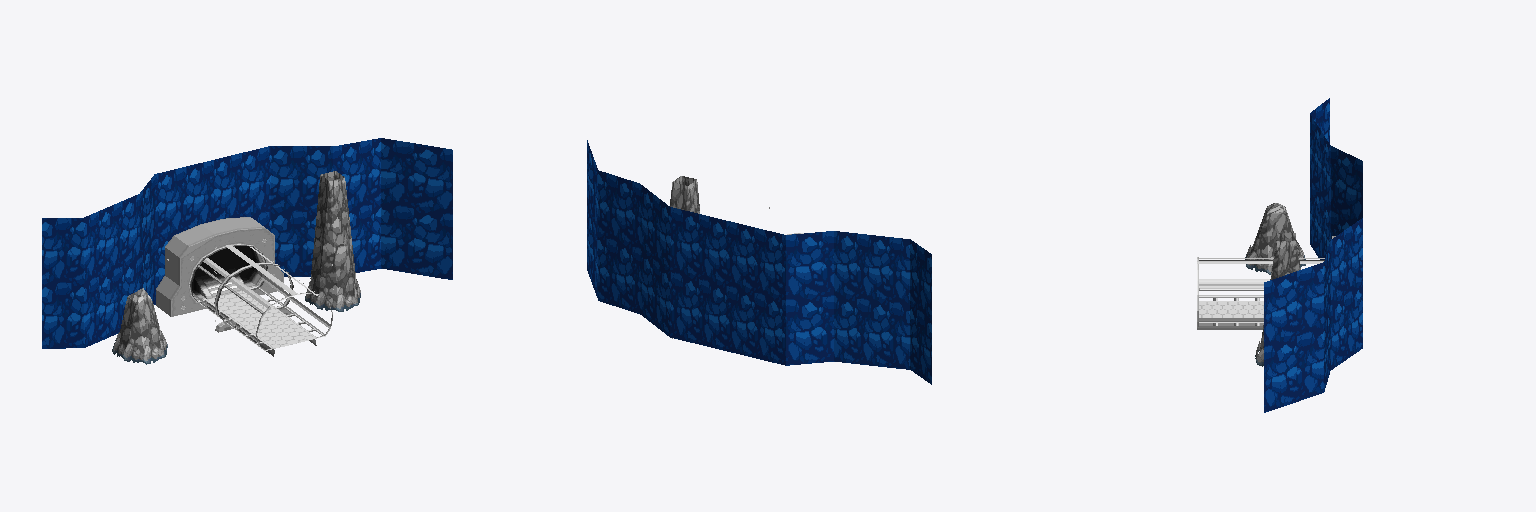
3 views of the same model, side by side, from view 1: azimuth 30°, elevation 25°; view 2: azimuth 150°, elevation 25°; view 3: azimuth 270°, elevation 25° (orthographic).
Parts seen in each view (by area): view 1: polygon10, polygon2, polygon8, polygon4, polygon12, polygon7, polygon20, polygon5, polygon6; view 2: polygon10, polygon2; view 3: polygon10, polygon2, polygon20, polygon4, polygon5.
Part boxes in pixels (x1,y1,x2,y2): polygon10: (42,138,452,348); polygon2: (119,171,357,352); polygon8: (156,217,283,316); polygon4: (208,291,314,348); polygon12: (192,246,265,301); polygon7: (112,278,360,364); polygon20: (193,245,330,343); polygon5: (189,244,332,348); polygon6: (199,287,325,350); polygon10: (587,140,931,384); polygon2: (670,176,699,213); polygon10: (1264,98,1362,412); polygon2: (1249,203,1301,349); polygon20: (1197,258,1324,321); polygon4: (1199,302,1263,317); polygon5: (1197,257,1324,326).
Size of the model in its own units: 2.62 by 0.8748 by 1.
Materials: 13 (12 with a texture image).